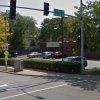Traffic light: (37, 3, 55, 18)
